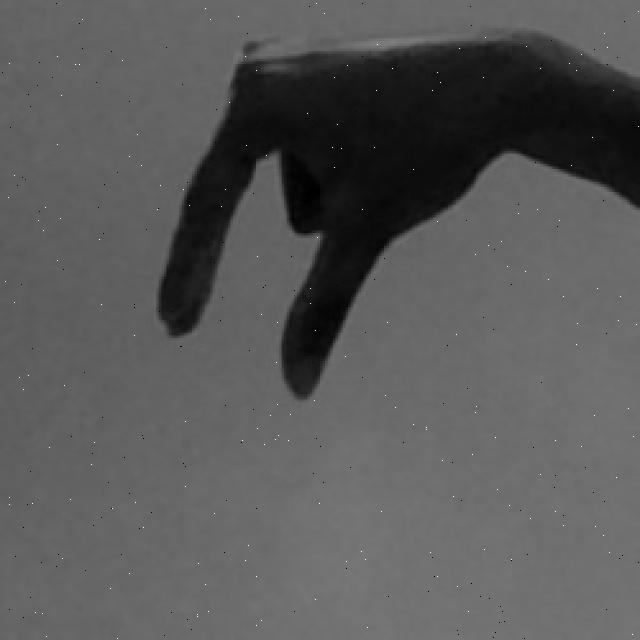Q: (146, 15, 640, 402)
